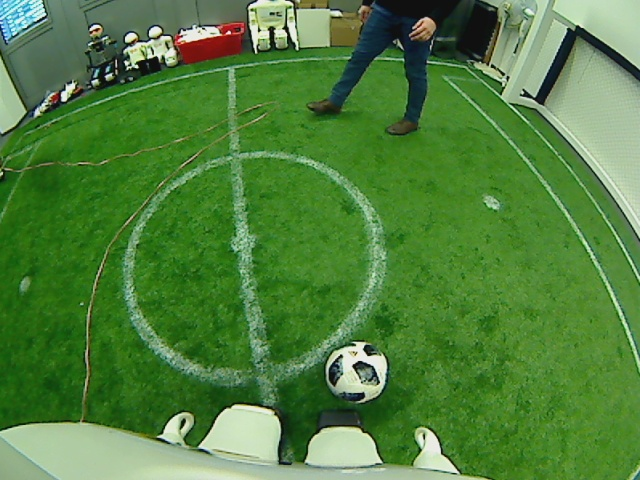ball: (322, 339, 390, 406)
